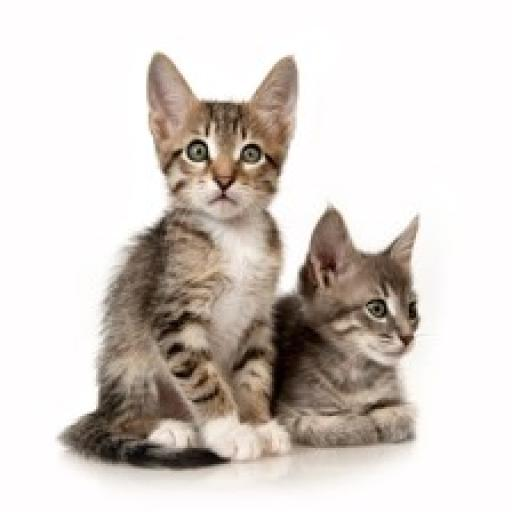cat: (62, 33, 292, 480), (250, 206, 426, 450)
